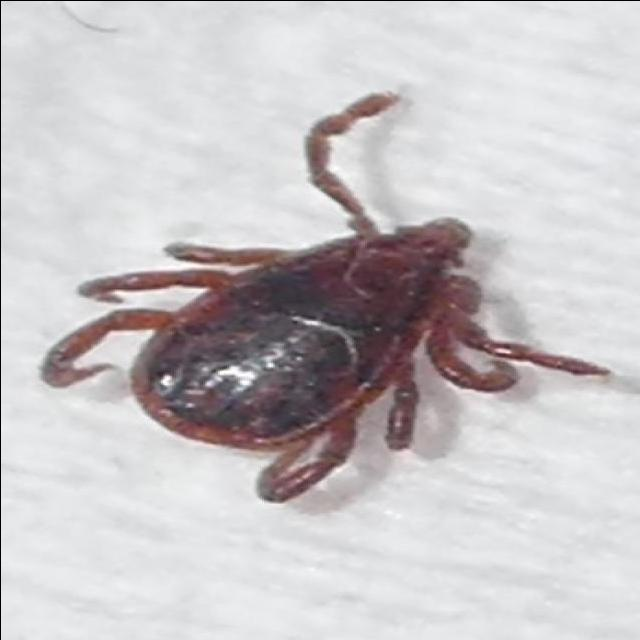Rhipicephalus Sanguineus-M: (40, 92, 611, 504)
